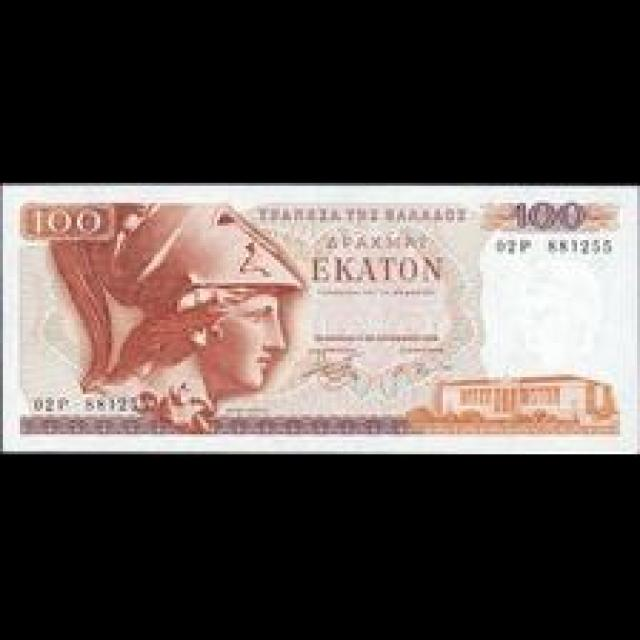banknote: (2, 185, 640, 453), (16, 196, 107, 242), (508, 194, 595, 237)
